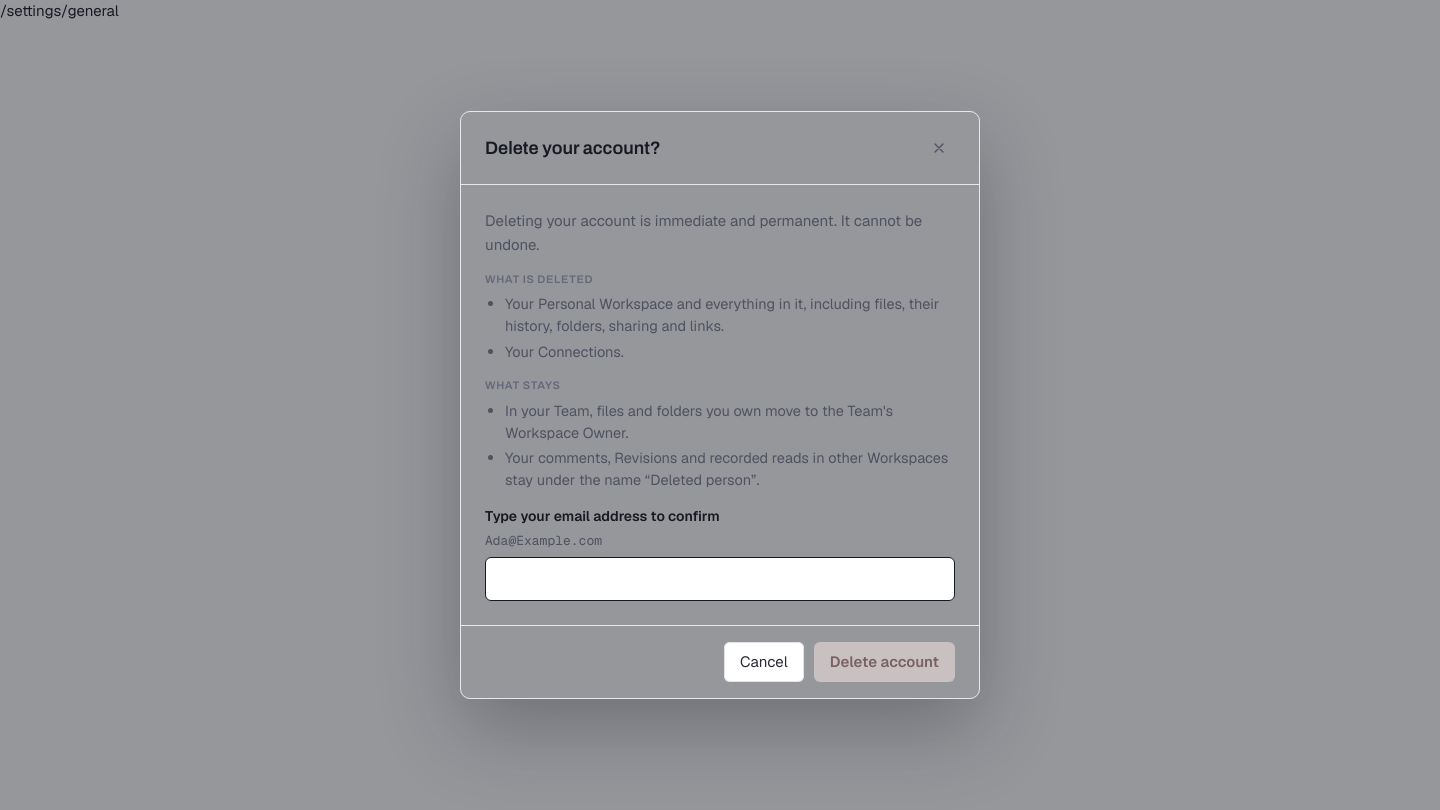
Scenario: DeleteAccountDialog › shows the server's sentence for a Workspace Owner whose Team needs another owner, and stays open to try again
The width and height of the screenshot is (1440, 810).
Type "ada@example.com" into the field labelled "Type your email address to confirm".
click(720, 579); type("ada@example.com")  # box [485,557,955,601]
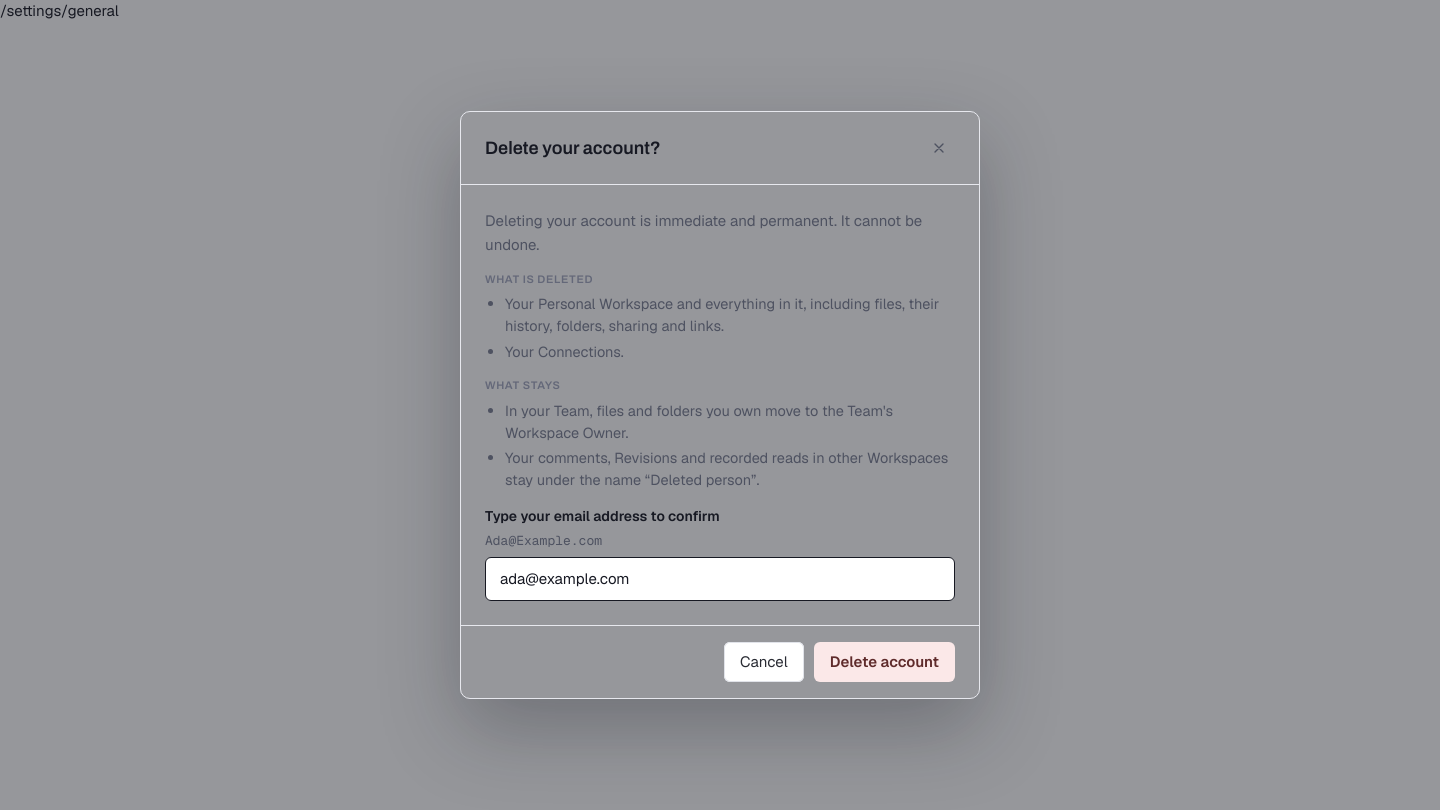
Click the button "Delete account".
click(884, 662)  # box [814,642,955,682]
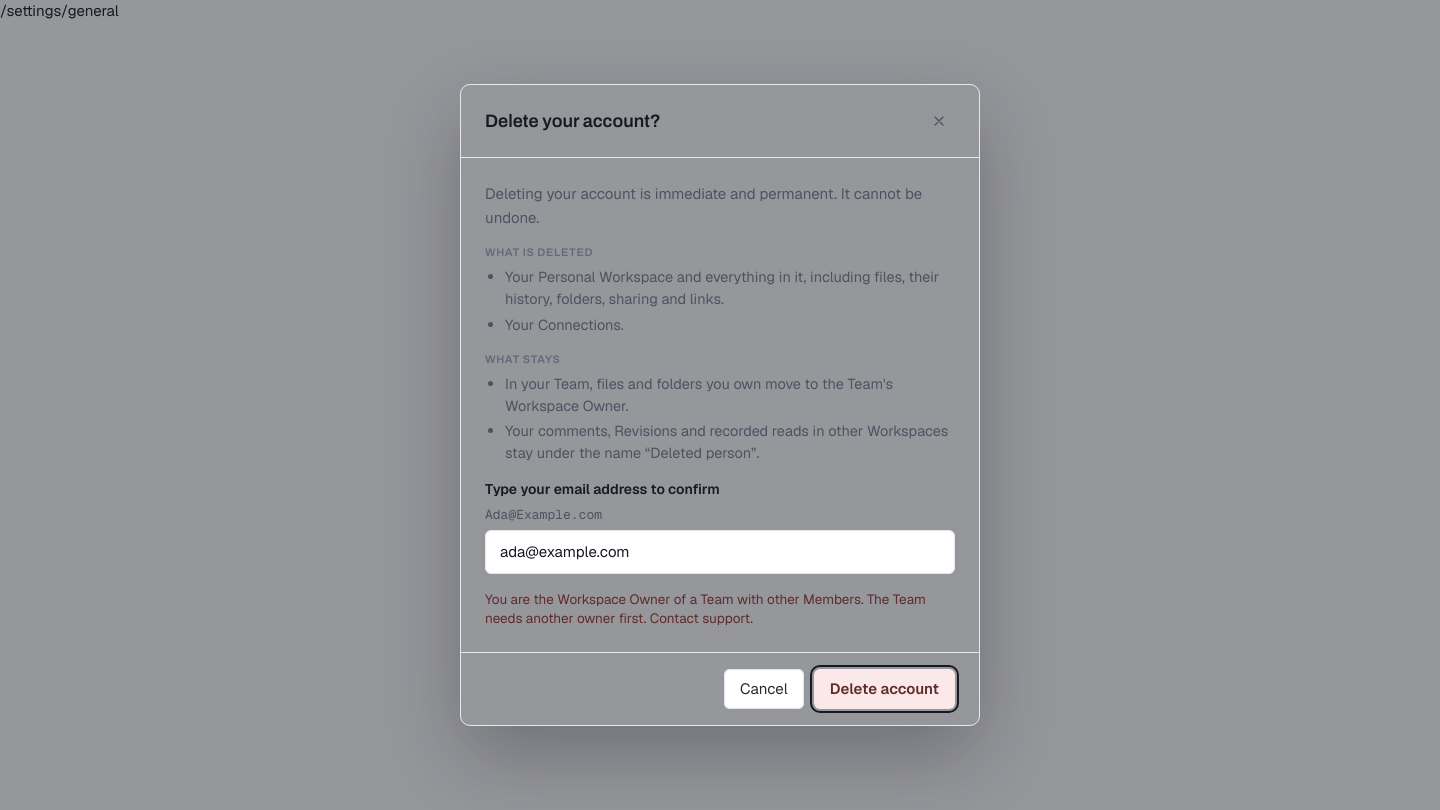
Expected: the text with test id "where" reads "/settings/general", [0,1,119,20]
Result: the button "Delete account" is enabled
Result: the message shows "You are the Workspace Owner of a Team with other Members. The Team needs another owner first. Contact support." at [485,590,926,627]
Click the button "Delete account".
click(884, 688)  # box [814,668,955,708]
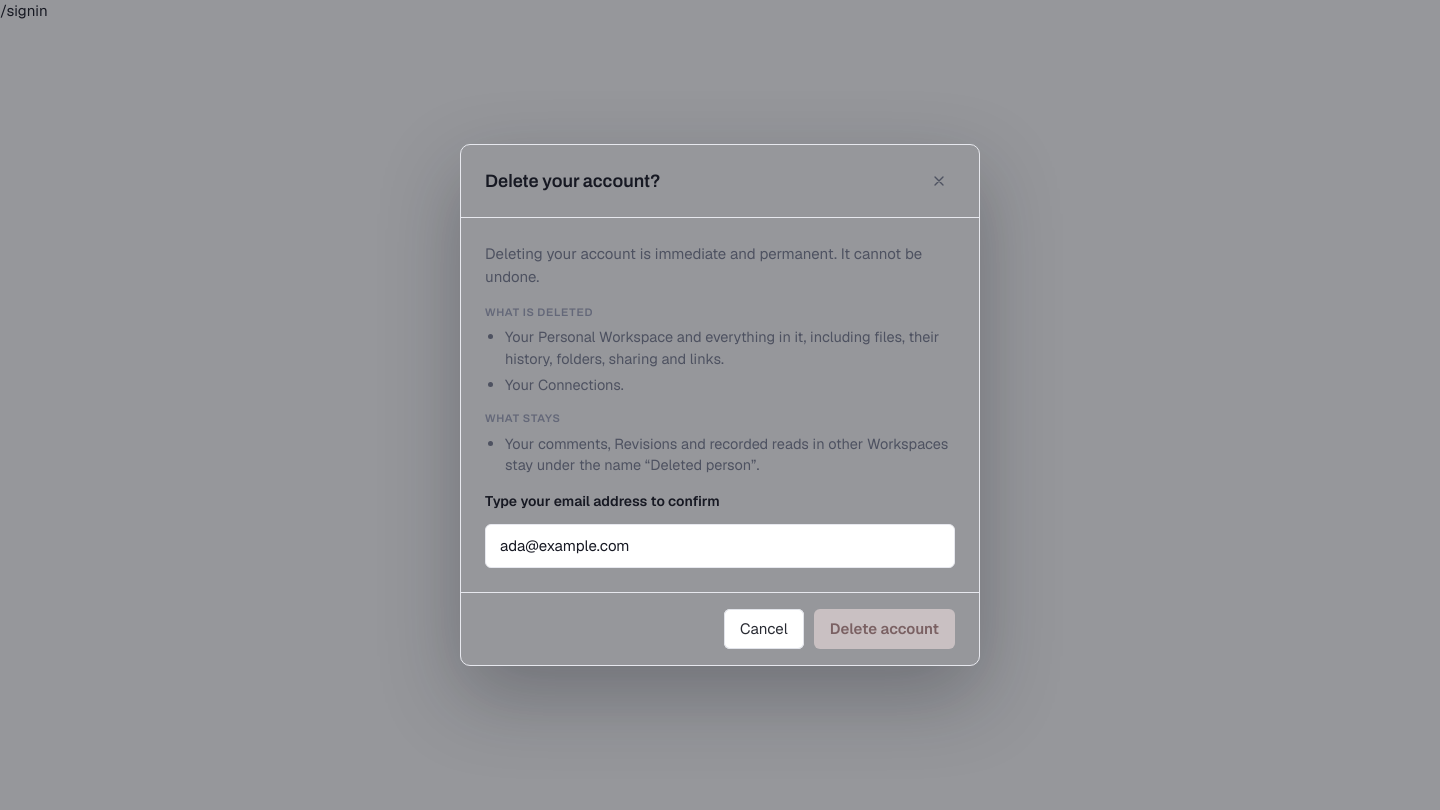
Result: the text with test id "where" reads "/signin" at [0,1,48,20]
